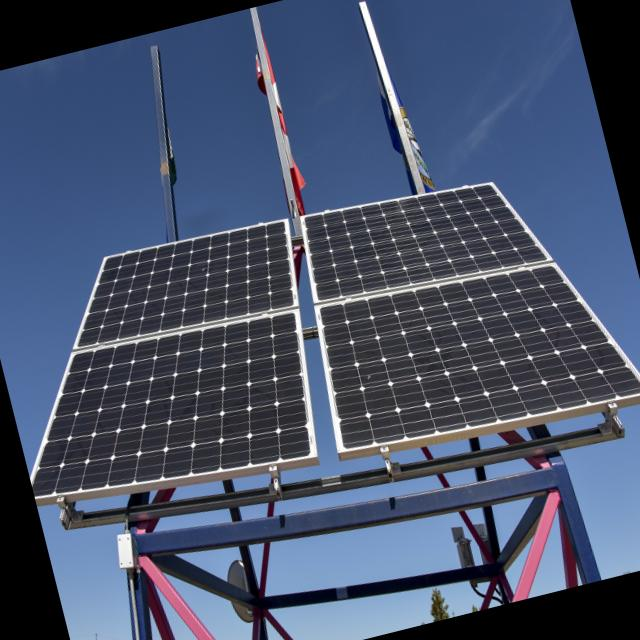faulty: (319, 267, 638, 447), (35, 311, 309, 494), (304, 184, 545, 298), (78, 222, 290, 343)
